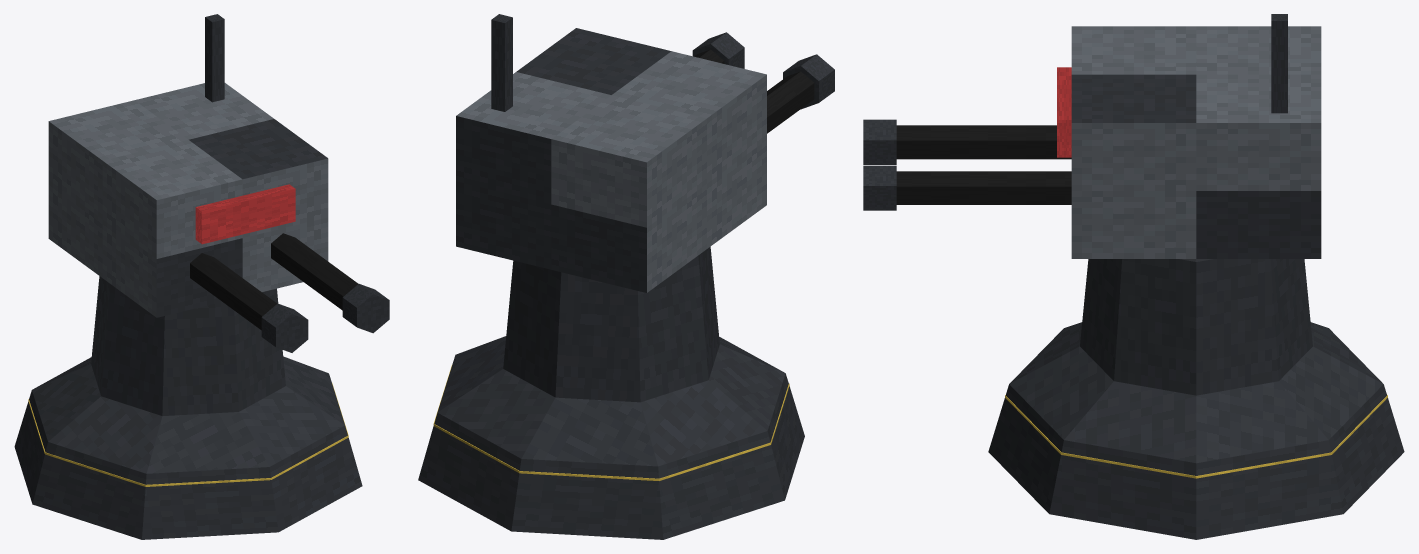
Rendered from enemy_turret.glb.
The picture shows the model from 3 angles, left to right: view 1: azimuth 30°, elevation 25°; view 2: azimuth 150°, elevation 25°; view 3: azimuth 270°, elevation 25°; orthographic projection. The views are drawn at different scales.
Visible parts, largest first — view 1: enemy_turret; view 2: enemy_turret; view 3: enemy_turret.
Part boxes in pixels (box(x1,y1,x2,y2)): enemy_turret: box(14, 14, 389, 539); enemy_turret: box(418, 14, 834, 539); enemy_turret: box(863, 14, 1404, 539).
Size of the model in its own units: 1 by 1.25 by 1.3.
2 materials, 2 textured.
